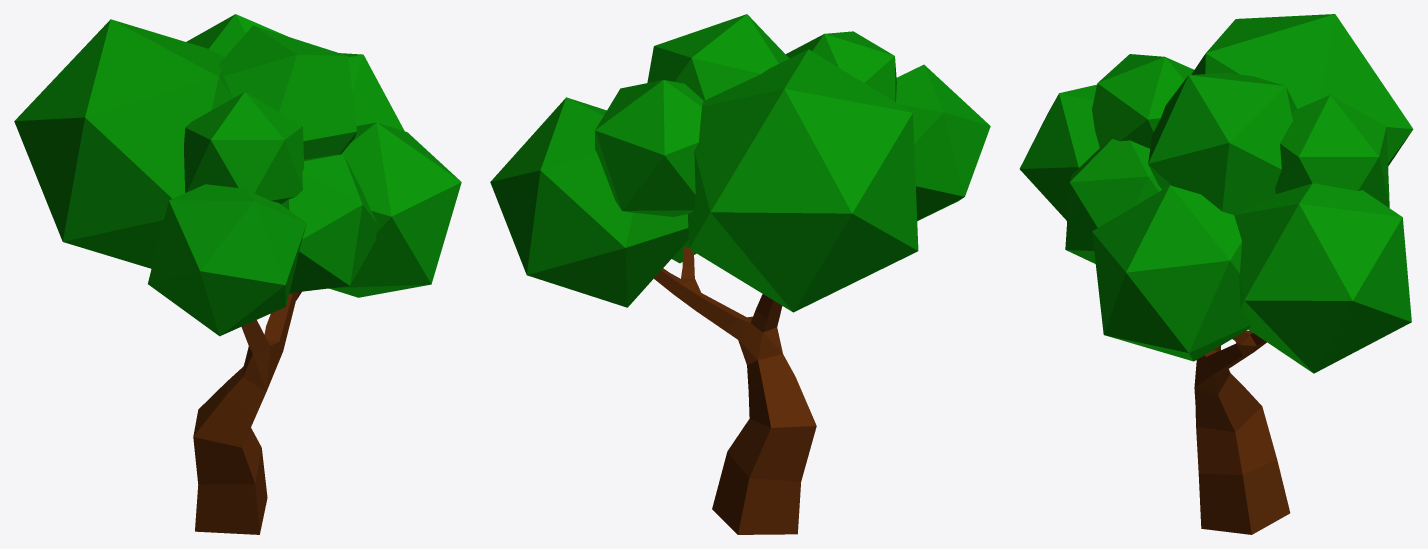
The model's file is tree1.fbx.
The picture shows the model from 3 angles, left to right: view 1: azimuth 30°, elevation 25°; view 2: azimuth 150°, elevation 25°; view 3: azimuth 270°, elevation 25°; orthographic projection. The views are drawn at different scales.
Parts seen in each view (by area): view 1: Icosphere.001, Icosphere, Icosphere.003, Cube, Icosphere.005, Icosphere.004, Icosphere.007, Icosphere.002, Icosphere.006; view 2: Icosphere.001, Icosphere.002, Cube, Icosphere.006, Icosphere, Icosphere.005, Icosphere.004; view 3: Icosphere.002, Icosphere.003, Icosphere.005, Cube, Icosphere.001, Icosphere.006, Icosphere.007, Icosphere.004, Icosphere.
Boxes of the visible parts, <box> form: Icosphere.001: <box>14,19,232,268</box>; Icosphere: <box>148,184,306,336</box>; Icosphere.003: <box>329,122,461,297</box>; Cube: <box>193,291,301,534</box>; Icosphere.005: <box>218,25,356,159</box>; Icosphere.004: <box>184,92,304,203</box>; Icosphere.007: <box>281,154,377,292</box>; Icosphere.002: <box>339,53,404,130</box>; Icosphere.006: <box>186,14,287,56</box>; Icosphere.001: <box>688,49,918,312</box>; Icosphere.002: <box>490,97,688,307</box>; Cube: <box>654,247,816,534</box>; Icosphere.006: <box>595,80,703,216</box>; Icosphere: <box>896,64,990,220</box>; Icosphere.005: <box>647,14,789,100</box>; Icosphere.004: <box>785,31,896,102</box>; Icosphere.002: <box>1234,183,1411,373</box>; Icosphere.003: <box>1092,185,1251,361</box>; Icosphere.005: <box>1148,73,1296,214</box>; Cube: <box>1194,330,1290,534</box>; Icosphere.001: <box>1191,14,1413,166</box>; Icosphere.006: <box>1275,95,1389,207</box>; Icosphere.007: <box>1065,139,1162,263</box>; Icosphere.004: <box>1092,54,1193,148</box>; Icosphere: <box>1019,84,1099,220</box>.
Size of the model in its own units: 419 by 521 by 391.
